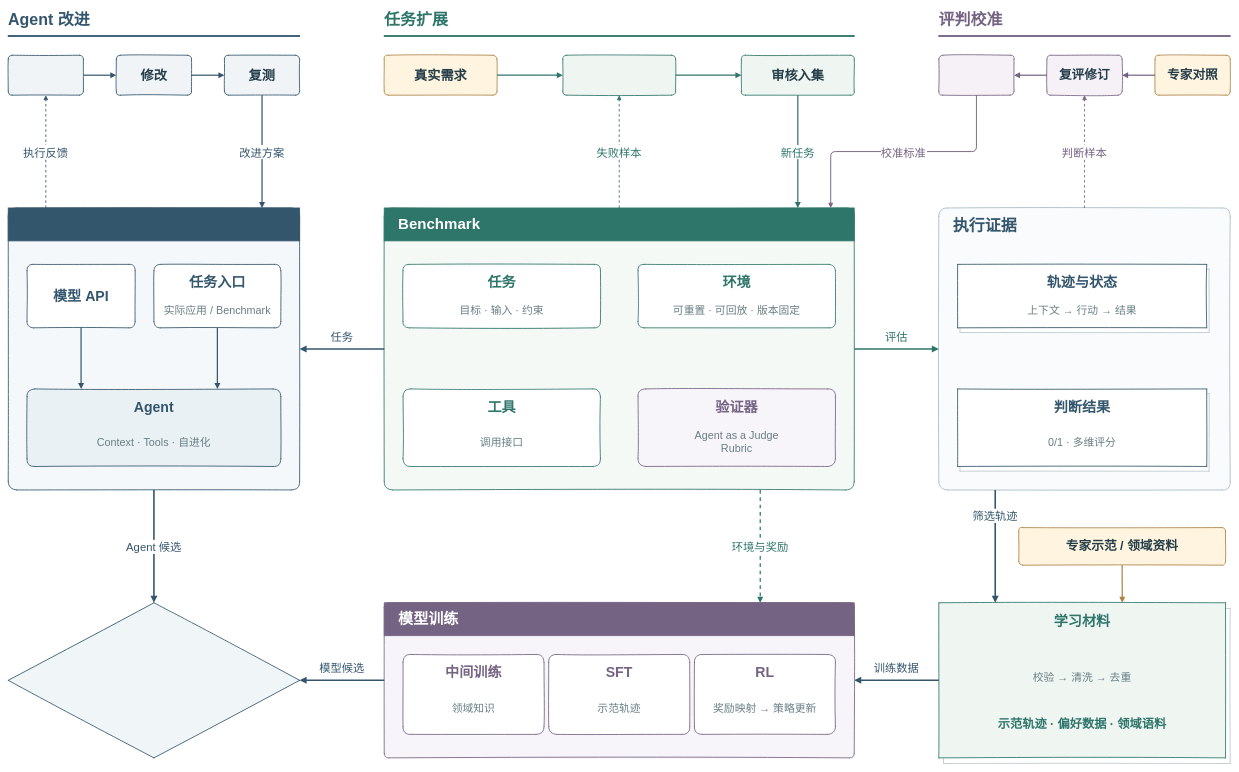
This 1239x772 diagram has some shape labels left out. Here are the shapes that lost their labels. From the top down, the centre of each, then its label:
At point 46,75: "归因".
At point 619,75: "合成候选".
At point 976,75: "Rubric".
At point 154,224: "执行系统".
At point 154,680: "独立验证".
